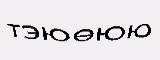В: (37, 2, 58, 24)
Л: (96, 15, 110, 39)
М: (108, 17, 126, 41), (79, 10, 97, 32)
Р: (61, 2, 78, 28)
